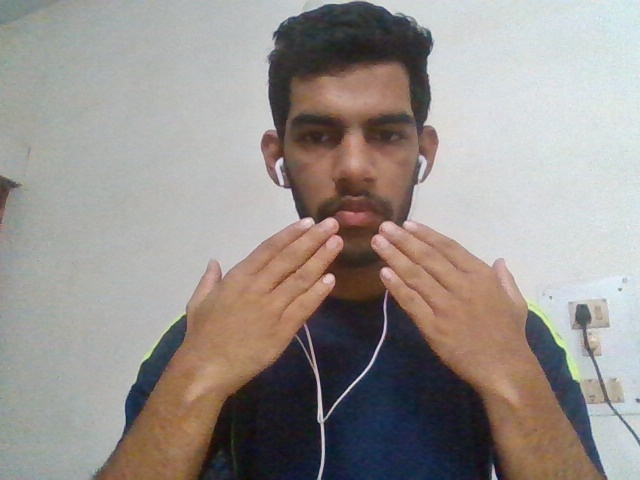thanks: (176, 215, 573, 398)
